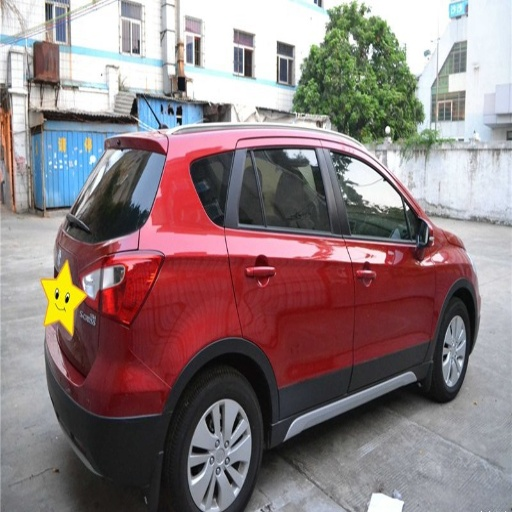back_bumper: (47, 316, 189, 484)
trunk: (53, 227, 161, 375)
